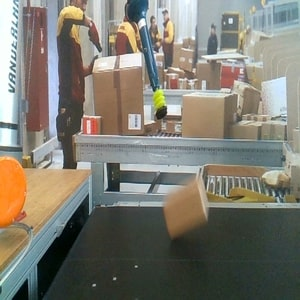box: (163, 174, 211, 241)
